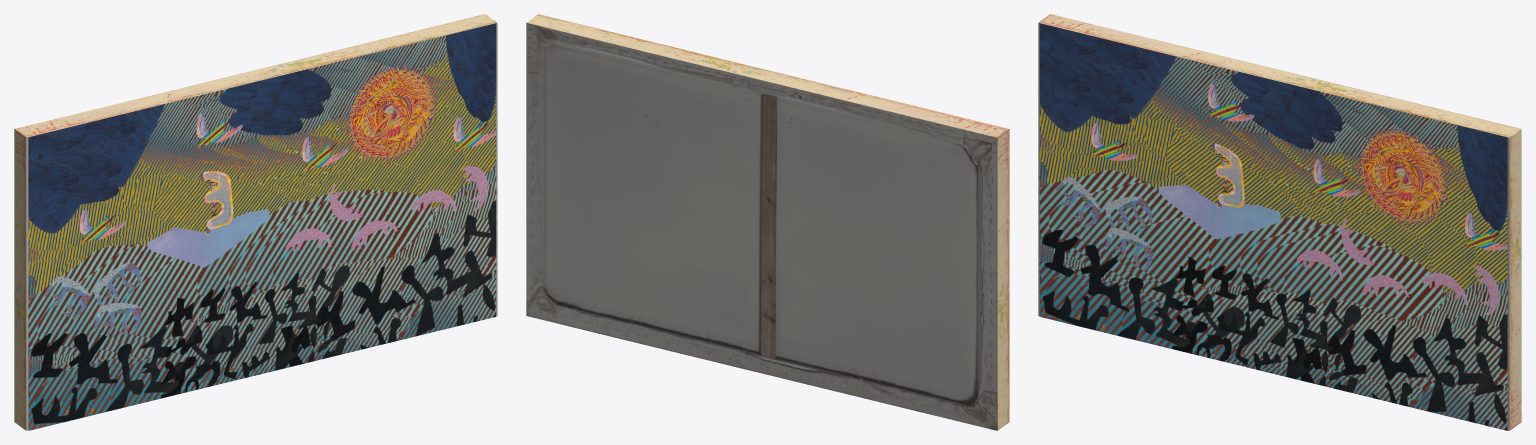
3 views of the same model, side by side, from view 1: azimuth 30°, elevation 25°; view 2: azimuth 150°, elevation 25°; view 3: azimuth 330°, elevation 25° (orthographic).
Visible parts, largest first — view 1: Canvas, stretcher5by3; view 2: stretcher5by3; view 3: Canvas, stretcher5by3.
Boxes of the visible parts, <box> form: Canvas: <box>28,23,496,430</box>; stretcher5by3: <box>14,14,497,430</box>; stretcher5by3: <box>526,14,1009,430</box>; Canvas: <box>1039,23,1507,430</box>; stretcher5by3: <box>1038,14,1521,430</box>.
Size of the model in its own units: 5.09 by 3.03 by 0.2302.
5 materials, 5 textured.
